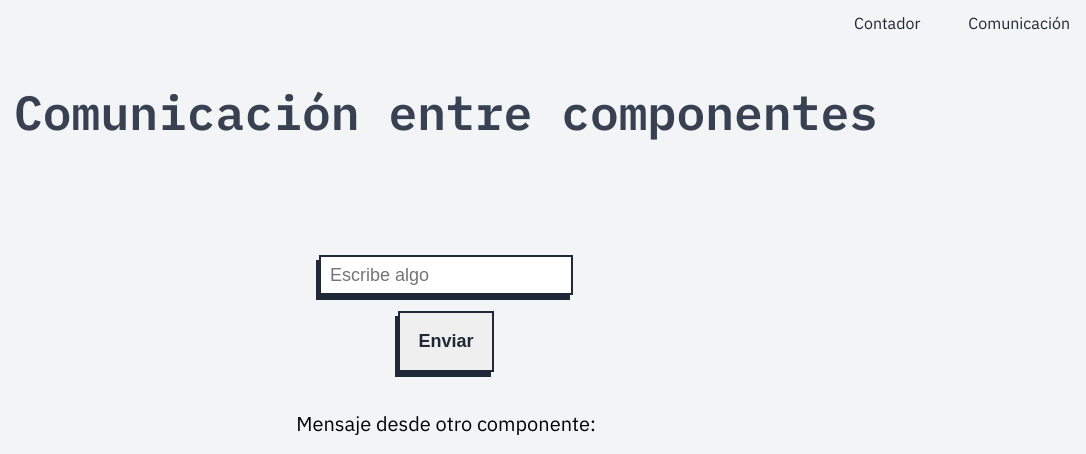
AboutView with ParentComponent and ChildComponent › should send a message from ChildComponent and display it in ParentComponent
This screenshot has width=1086, height=454.
Type "Hola desde Cypress" into the field with class "child-component__input" at (446, 275), box [319,255,573,295]
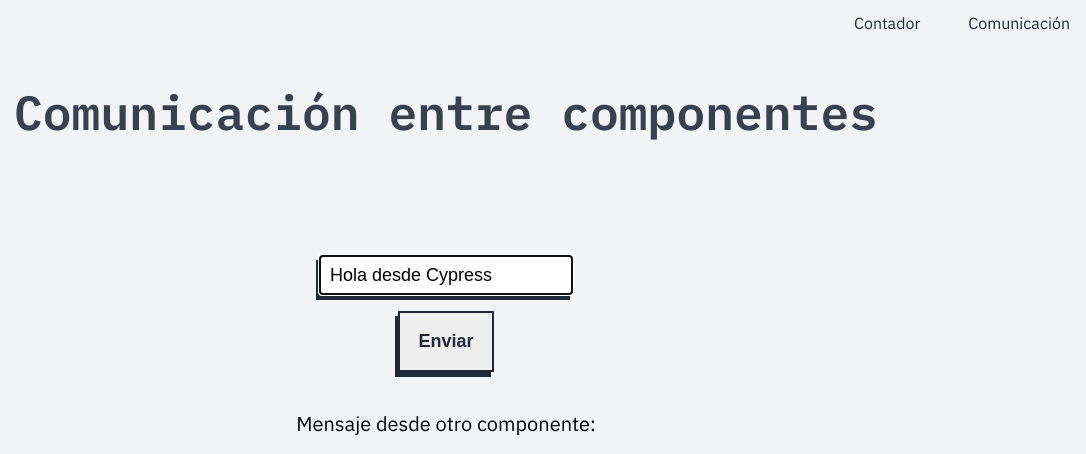
Click the button with class "child-component__button" at (447, 342), box [399,311,494,372]
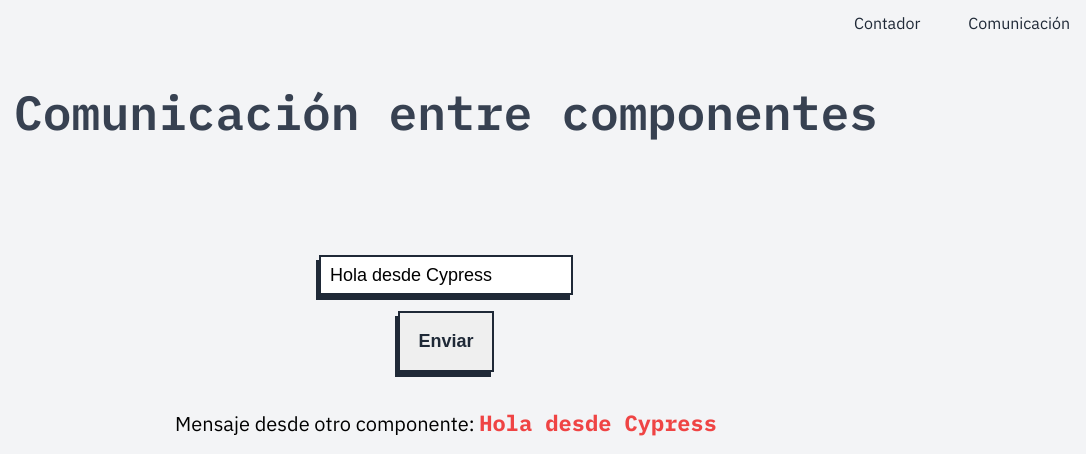
Now the text "Hola desde Cypress" is shown, box [479,408,717,437]
